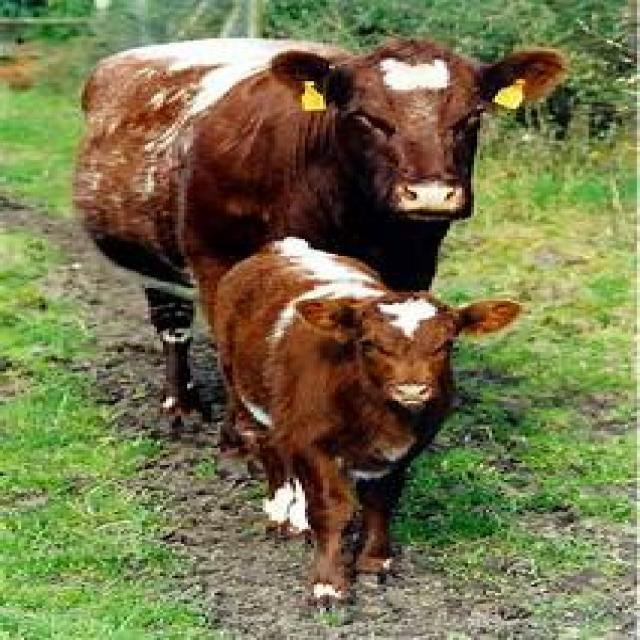cow: (74, 39, 566, 416), (218, 238, 522, 599)
